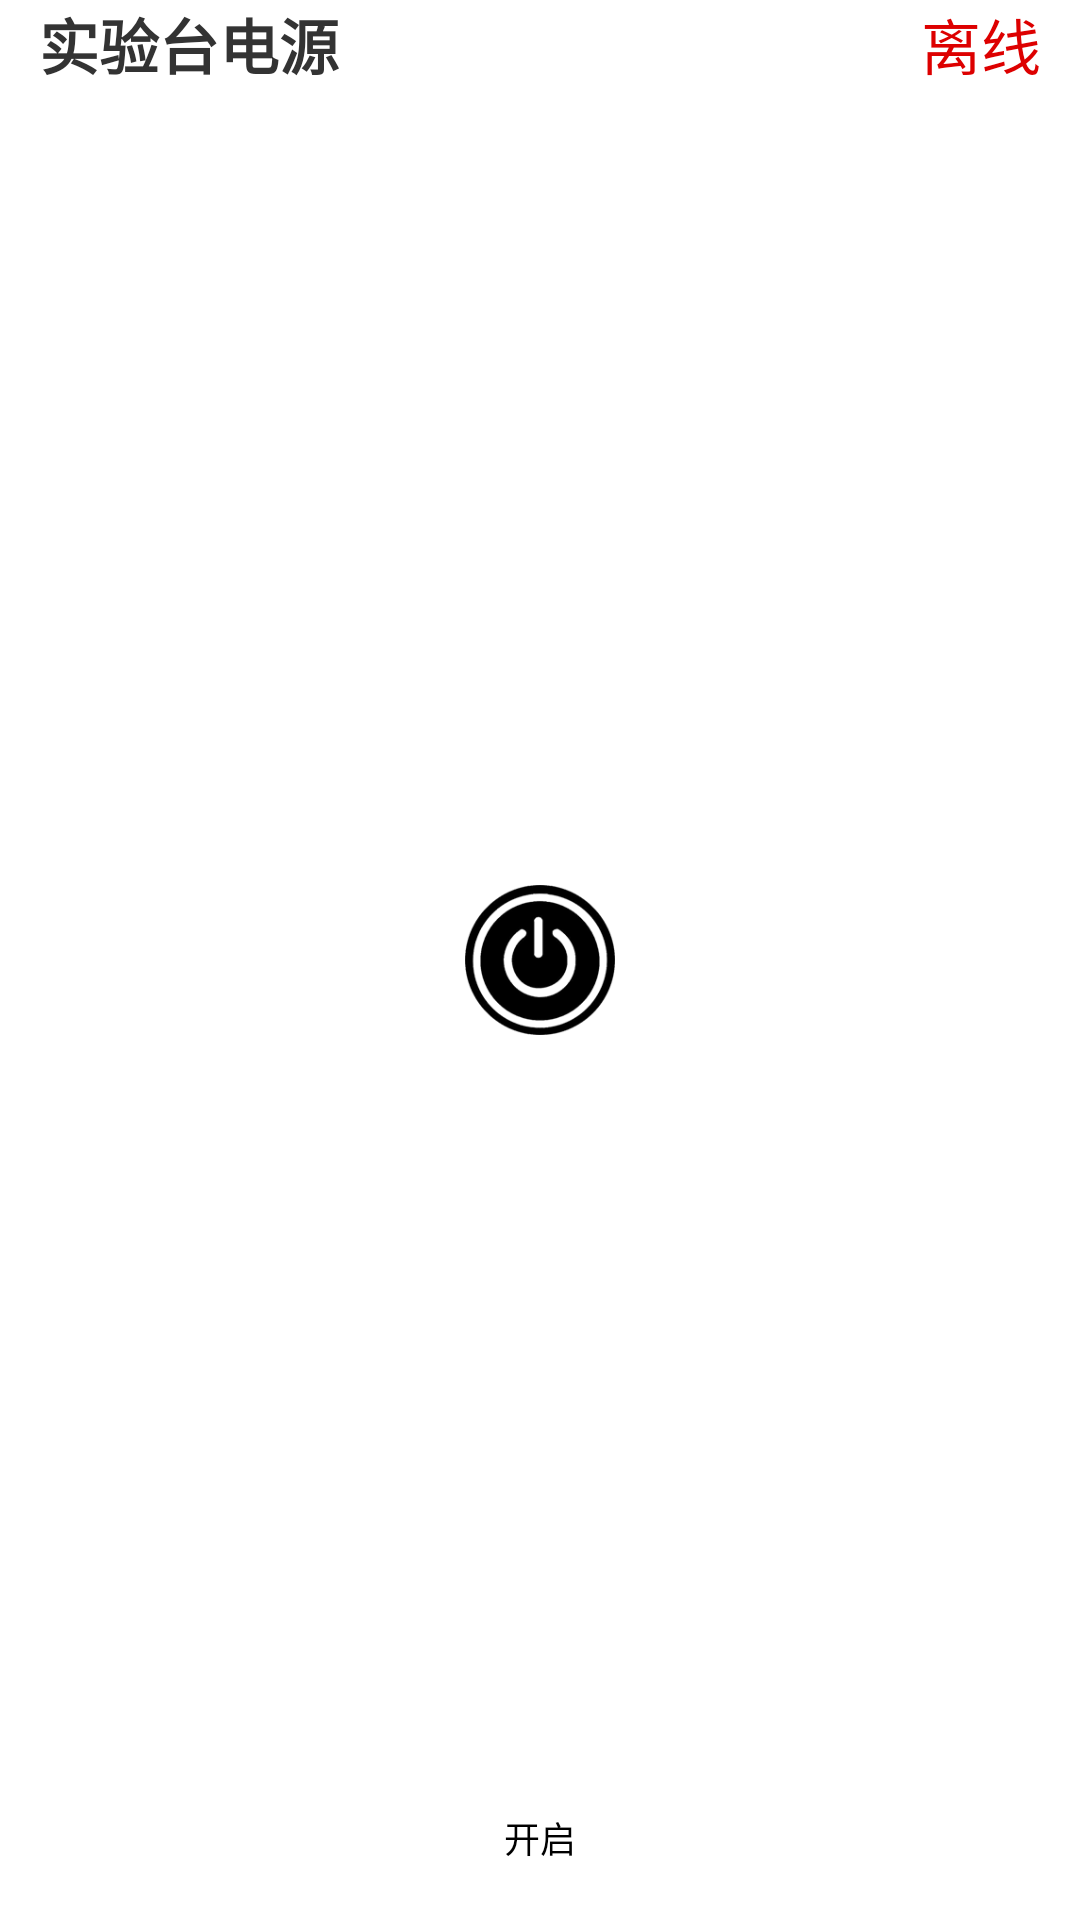

Screen size 1080 x 1920. Icon name, then its center in pixels as point (x, y):
power off: point (540, 960)
